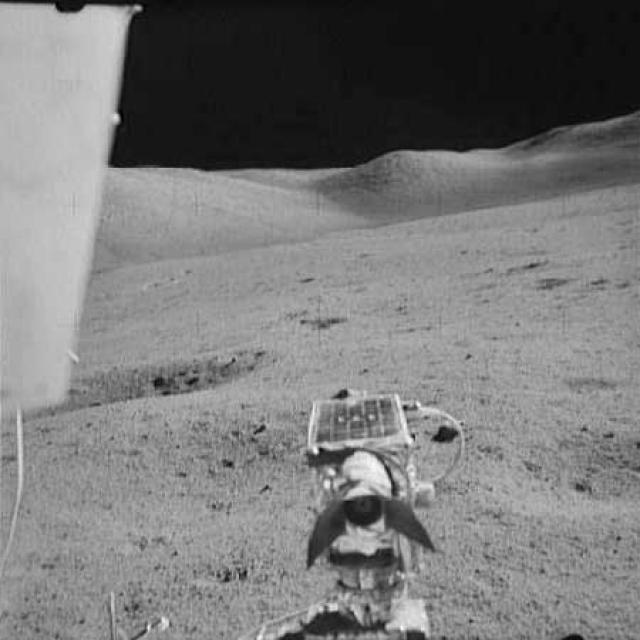artifact: (2, 4, 140, 584), (273, 382, 472, 638)
crater: (0, 345, 261, 413), (503, 431, 640, 510)
